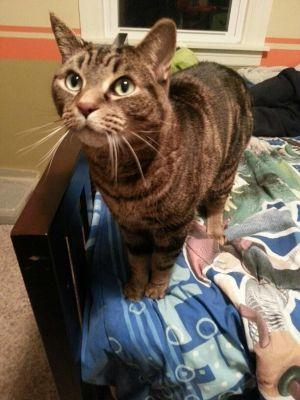bengal: (40, 8, 186, 169)
